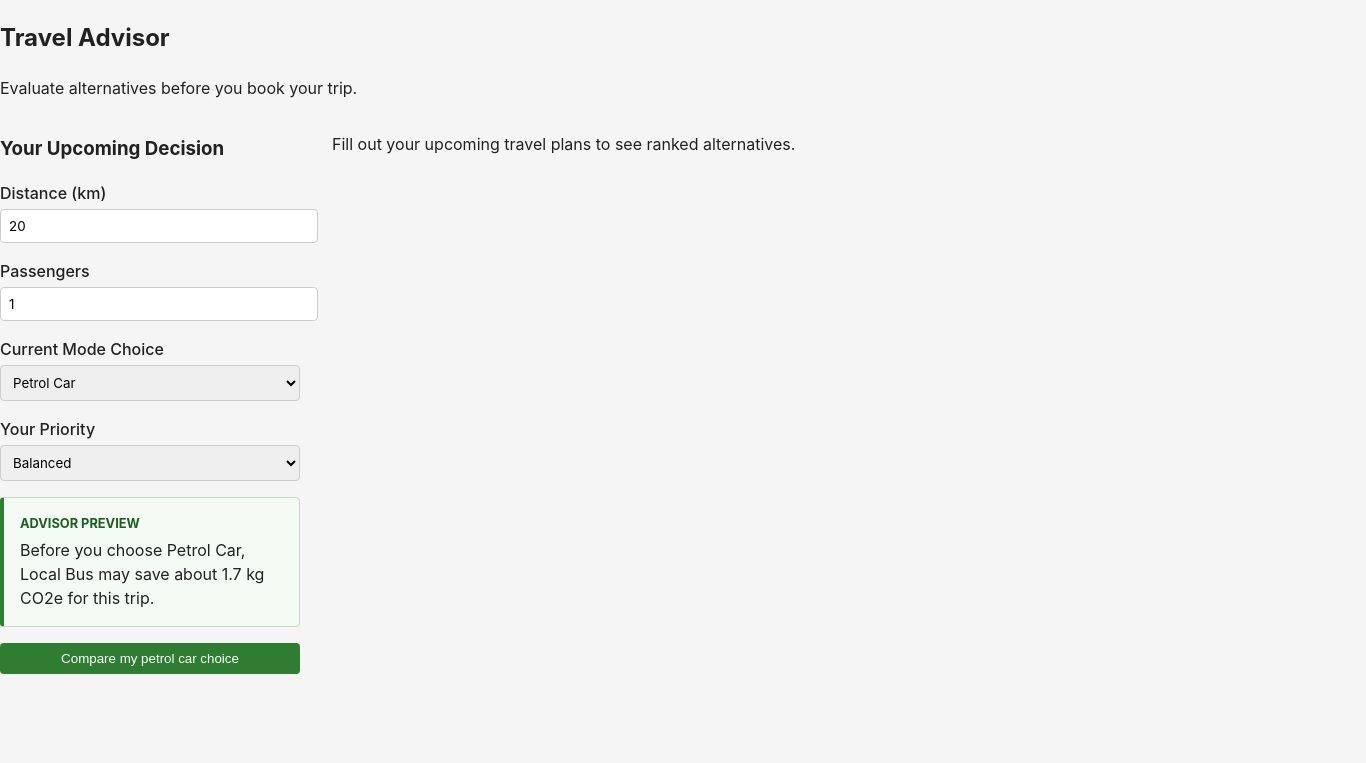
Test: TravelDecisionUI › renders an honest carbon cut state when the selected mode is already recommended
Select "Train" in the dropdown labelled "Current Mode Choice" at (150, 383), box [0,365,300,401]
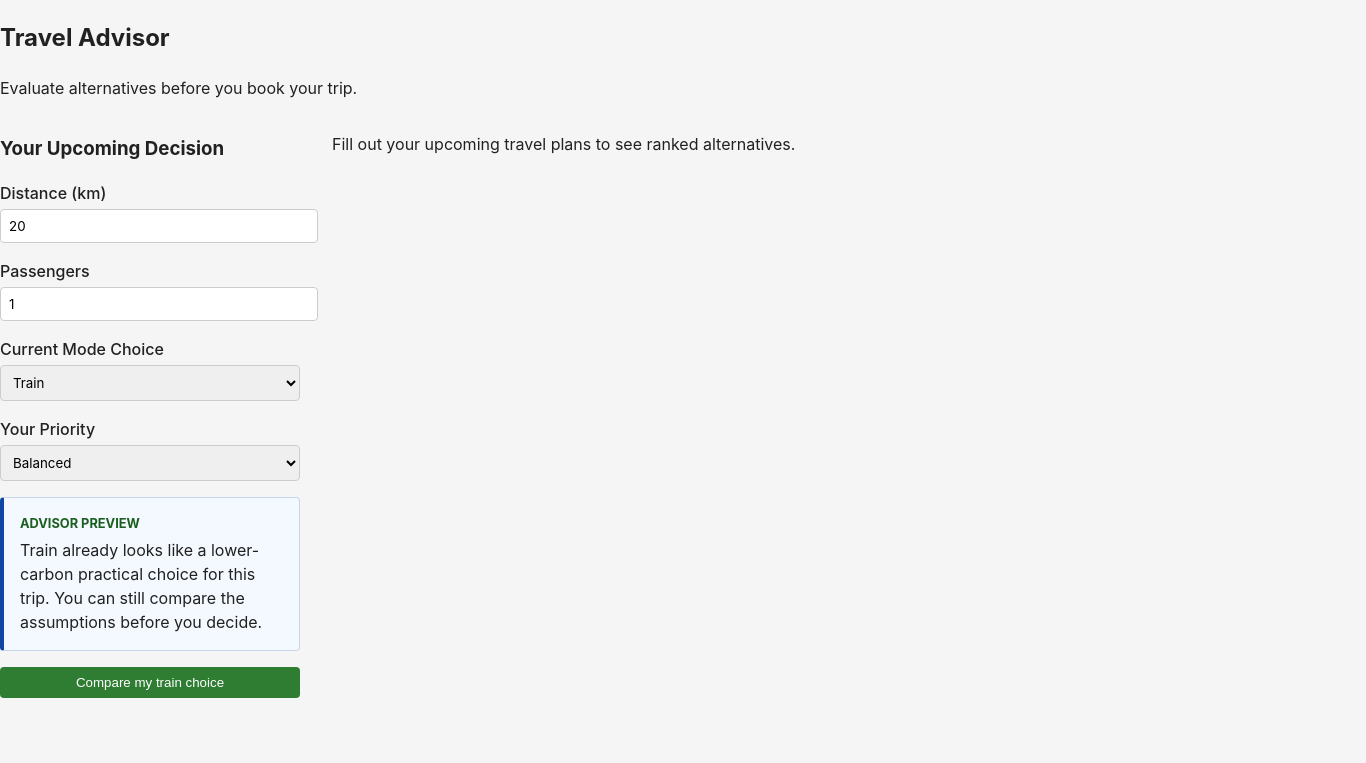
Click the button "Compare my train choice".
click(150, 682)  # box [0,666,300,698]
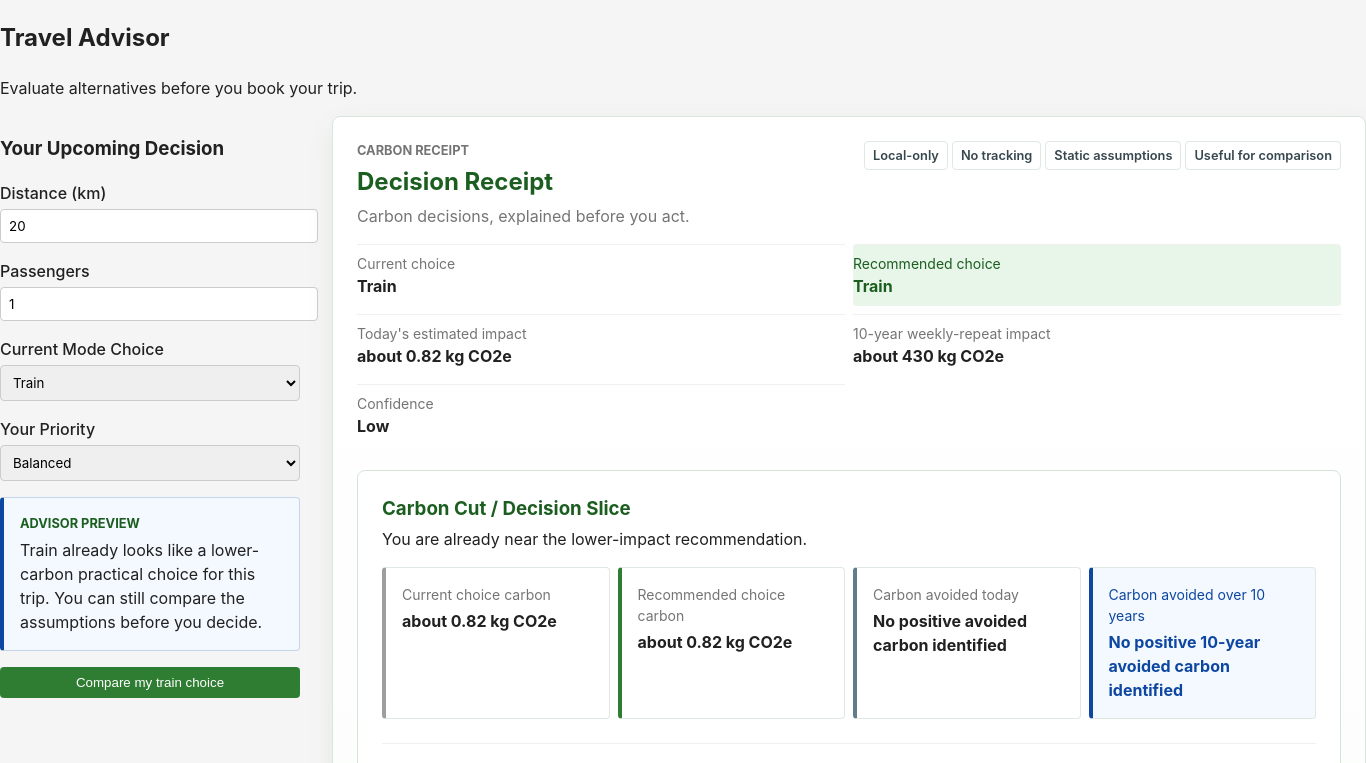
Now the text "You are already near the lower-impact recommendation." is shown, box [382,529,807,549]
Now the text "No positive avoided carbon identified" is shown, box [873,611,1027,655]
Now the text "No positive 10-year avoided carbon identified" is shown, box [1108,632,1260,700]
